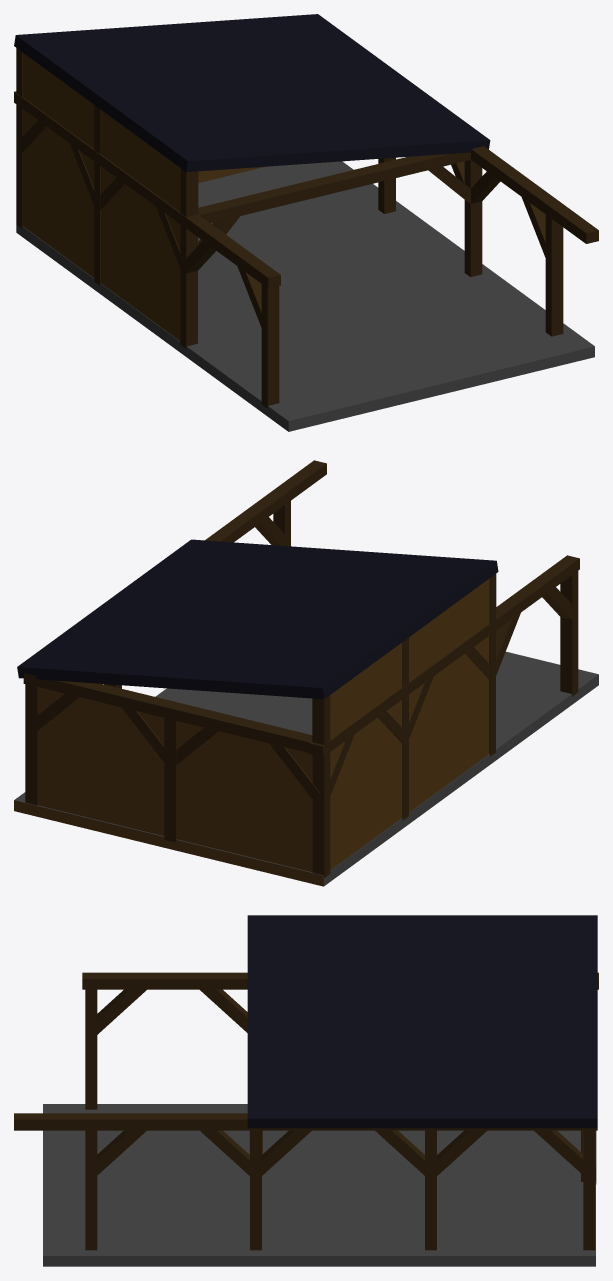
File: Blacksmith_Tartak.fbx
The picture shows the model from 3 angles, top to bottom: view 1: azimuth 30°, elevation 25°; view 2: azimuth 150°, elevation 25°; view 3: azimuth 270°, elevation 25°; orthographic projection.
Visible parts, largest first — view 1: Cube.259; view 2: Cube.259; view 3: Cube.259.
Part boxes in pixels (left/top/right/bottom): Cube.259: left=14, top=14, right=598, bottom=431; Cube.259: left=14, top=460, right=598, bottom=886; Cube.259: left=14, top=915, right=598, bottom=1266.
Size of the model in its own units: 555 by 339 by 899.
1 material, 1 textured.
